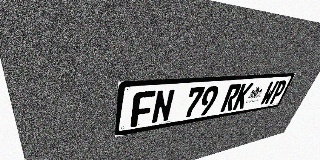7: (182, 86, 205, 119)
9: (197, 85, 220, 116)
F: (130, 90, 156, 127)
K: (232, 83, 254, 110)
N: (151, 89, 175, 124)
P: (268, 80, 288, 104)
R: (220, 84, 242, 112)
W: (259, 81, 279, 106)
